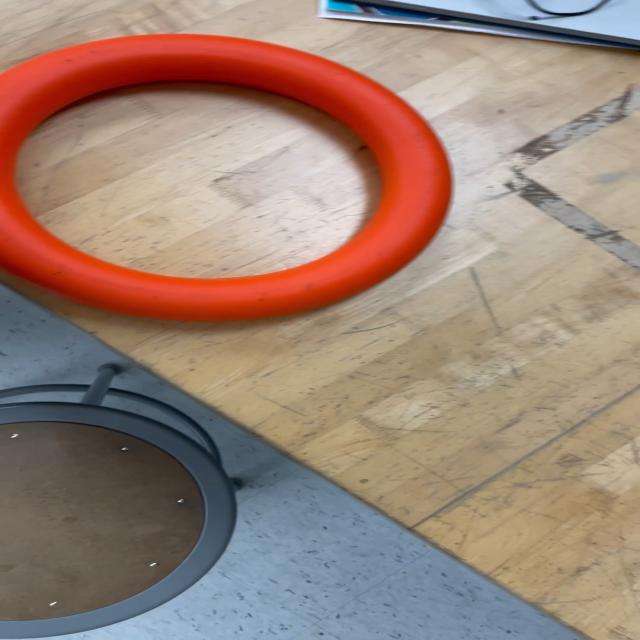note: (0, 32, 456, 324)
